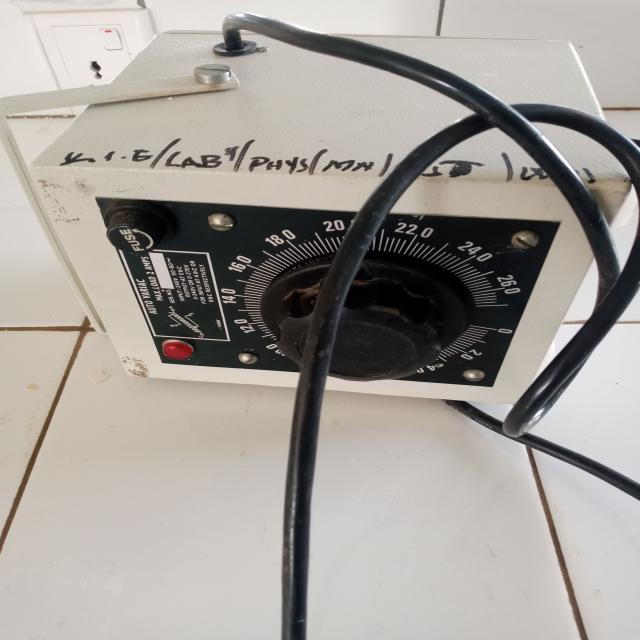Auto Variac AC Transformer 0-280 V: (40, 8, 619, 428)
